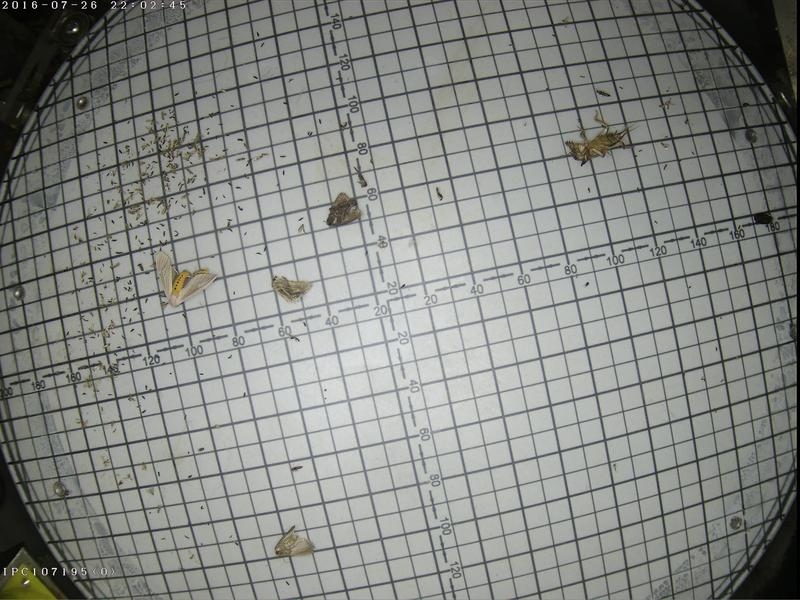Gryllotalpa orientalis: (561, 116, 635, 164)
Spodoptera litura: (270, 525, 314, 556)
